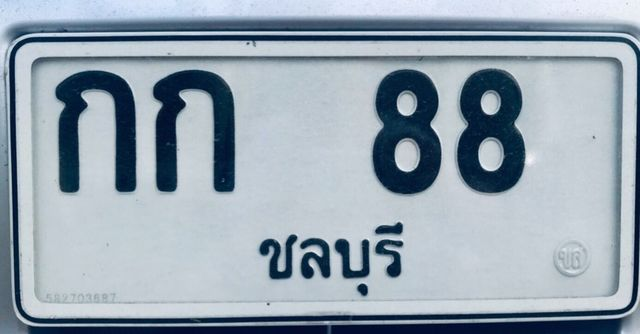txt01: (149, 66, 240, 196), (48, 67, 140, 195)
